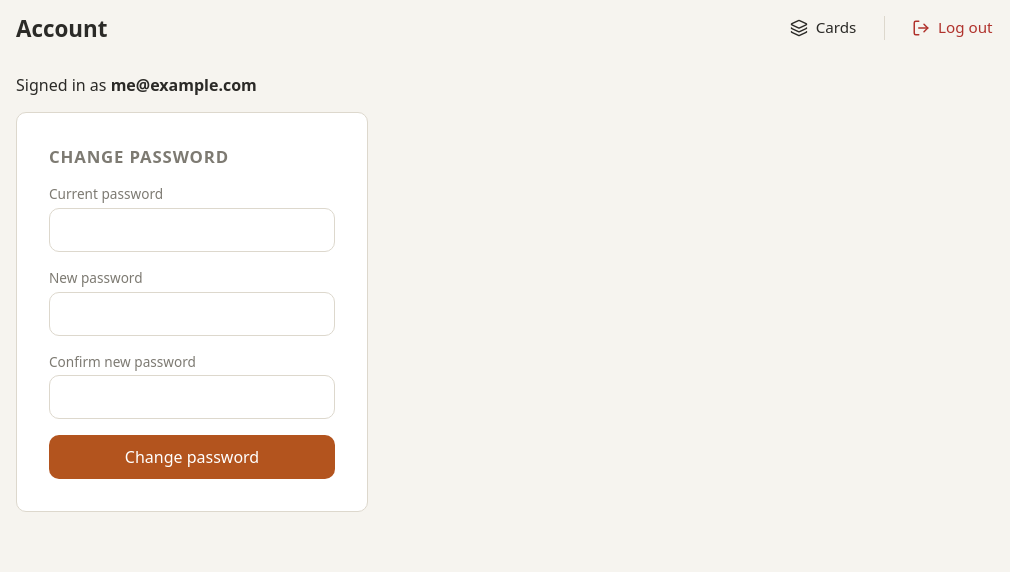
Test case: AccountPage › shows the server error for a wrong current password
The image size is (1010, 572).
Check: the text "me@example.com" is shown, box [111, 74, 257, 96]
Type "wrong" into the password field labelled "Current password" at [192, 230], box [49, 208, 335, 252]
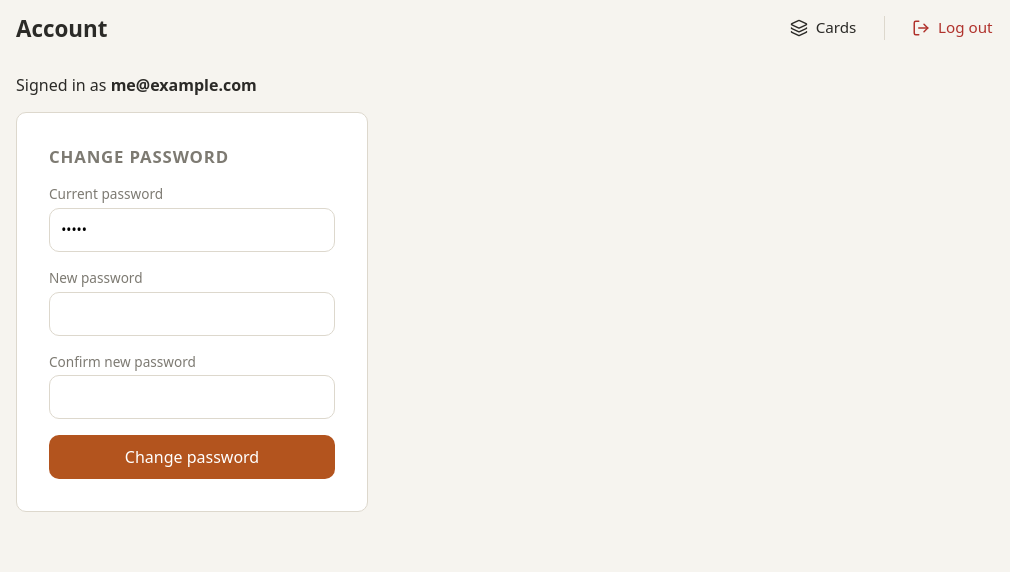
Type "new-password-1" into the password field labelled "New password" at [192, 314], box [49, 292, 335, 336]
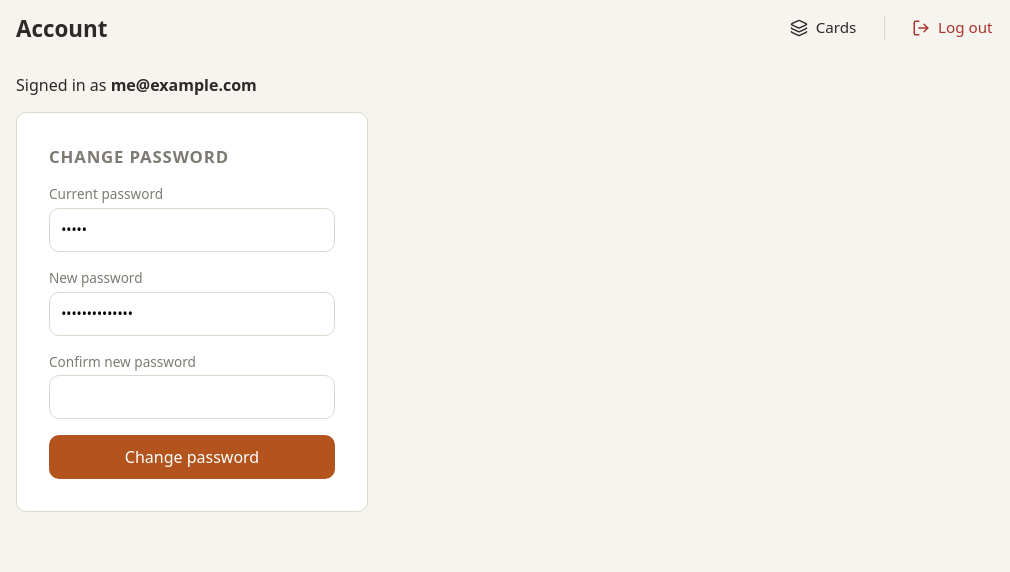
Type "new-password-1" into the password field labelled "Confirm new password" at [192, 397], box [49, 375, 335, 419]
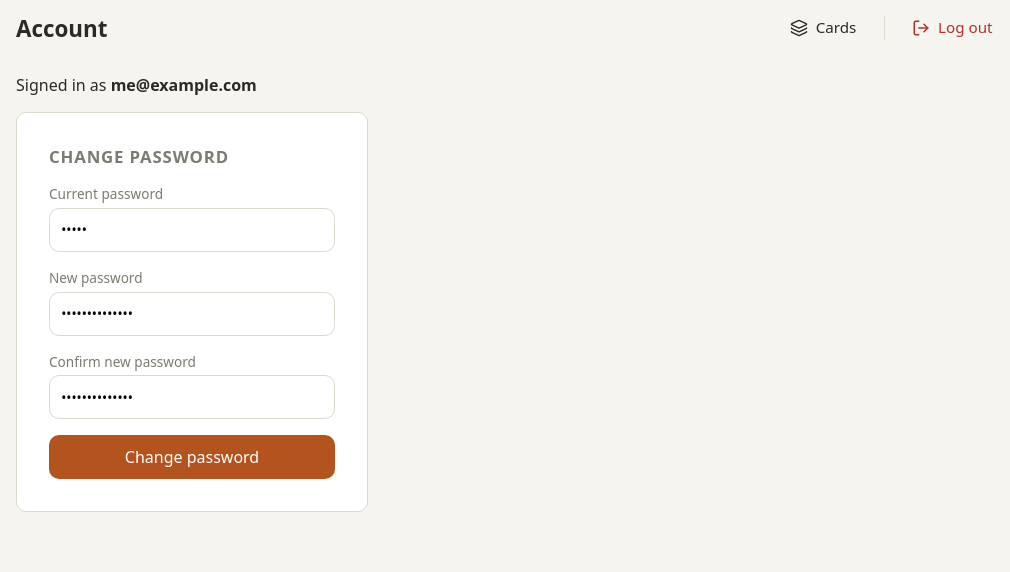
Click the button "Change password" at [192, 457], box [49, 435, 335, 479]
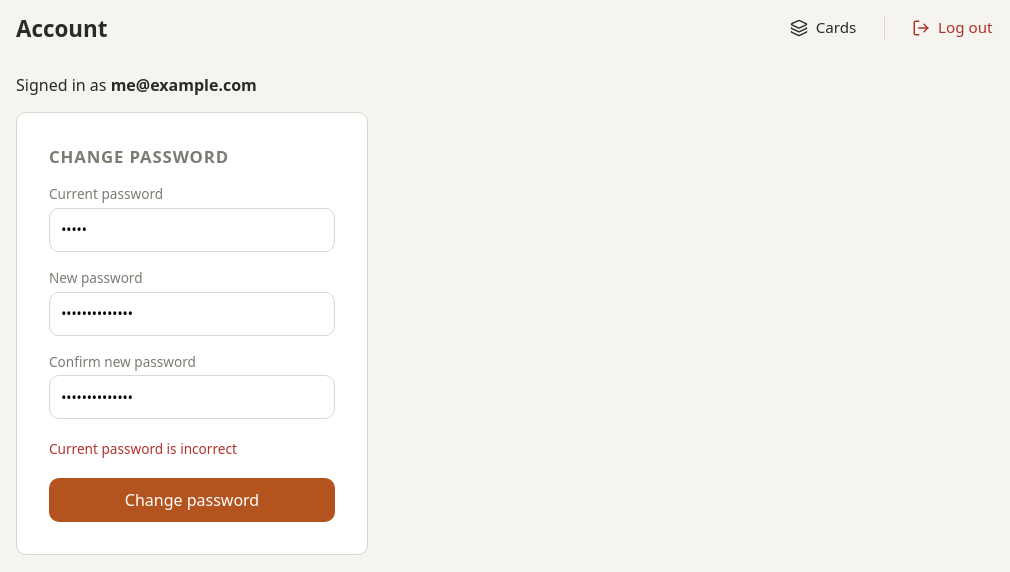
Check: the message reads "Current password is incorrect", box [49, 439, 237, 458]
